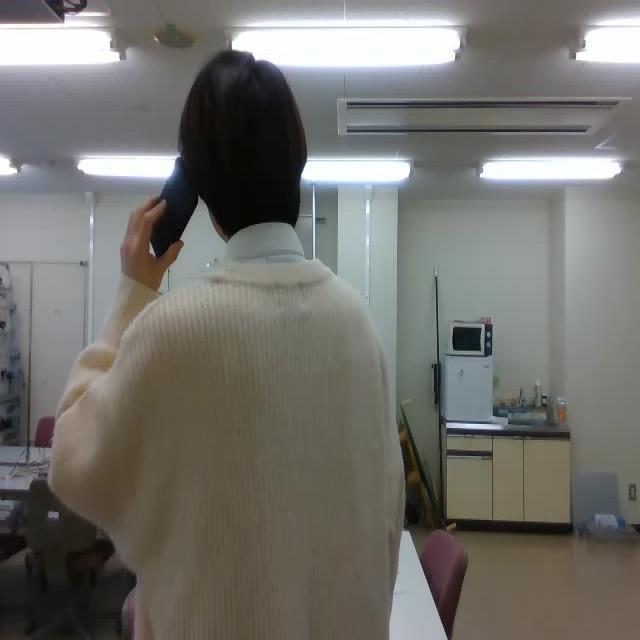Phone: (149, 154, 200, 262)
